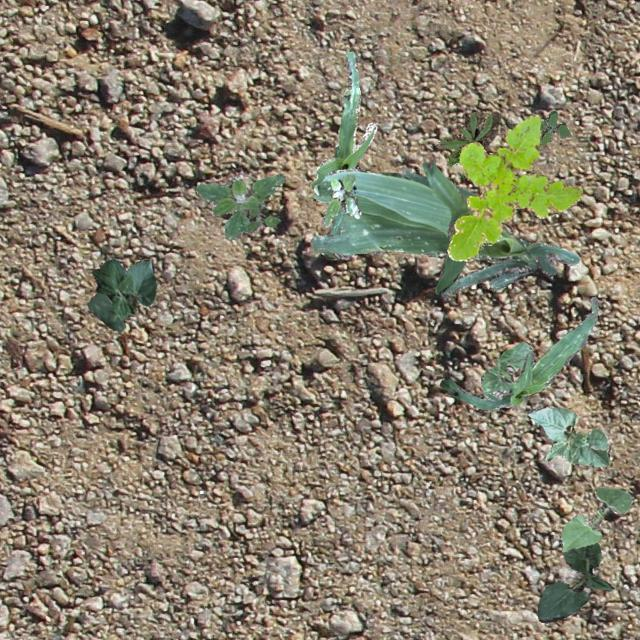crop: (310, 168, 578, 296), (438, 296, 596, 408), (310, 51, 376, 234), (422, 158, 472, 294), (536, 542, 614, 622), (86, 258, 156, 330), (526, 406, 608, 466), (560, 486, 632, 550), (480, 340, 530, 394)
weed: (446, 113, 580, 260), (194, 172, 284, 240), (438, 110, 500, 163), (312, 172, 360, 226), (538, 110, 568, 146)
